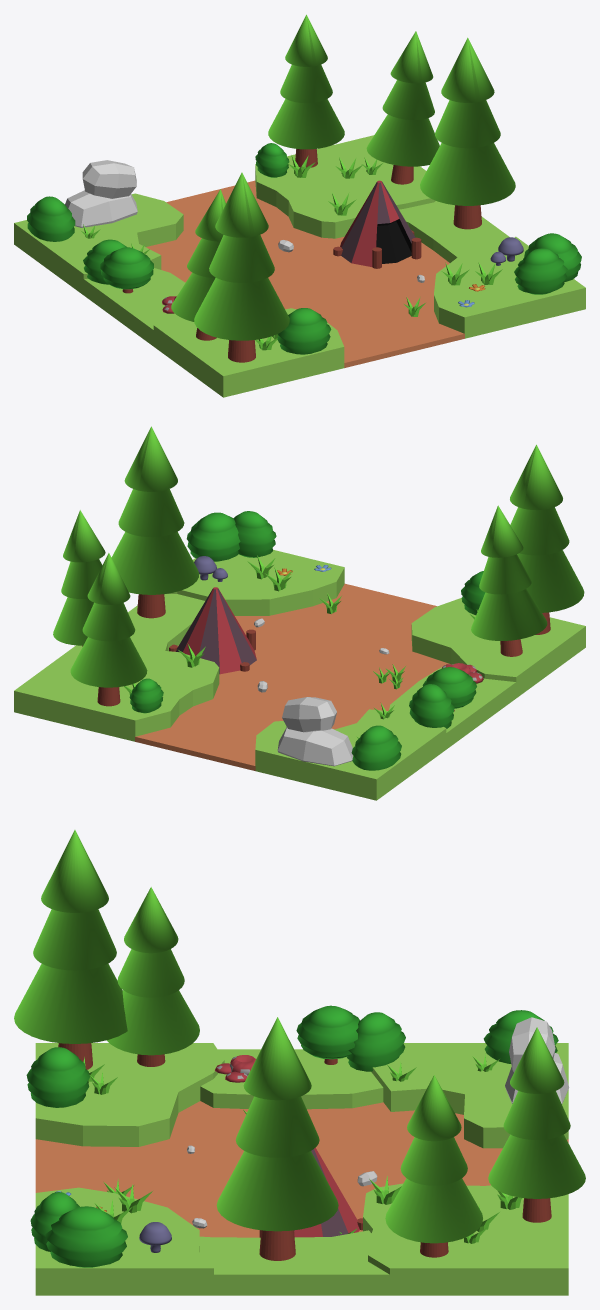
Rendered from jungle level set - 2 Way (3).fbx.
3 renders of one model, top to bottom at view 1: azimuth 30°, elevation 25°; view 2: azimuth 150°, elevation 25°; view 3: azimuth 270°, elevation 25°, orthographic. The views are drawn at different scales.
Visible parts, largest first — view 1: land_platform, tree_001, tree_006, tree, tree_002, camp, tree_005, bush_004, stone, bush_005, tree_004, stone_001 (+4 smaller); view 2: land_platform, tree_001, tree_006, tree, tree_005, camp, tree_002, stone, bush, bush_003, stone_001, bush_001 (+4 smaller); view 3: land_platform, tree_001, tree_006, tree, tree_002, tree_005, bush, bush_005, tree_004, bush_001, camp, bush_003 (+4 smaller).
Part boxes in pixels (<box>): land_platform: <box>14,135,585,397</box>; tree_001: <box>420,37,515,229</box>; tree_006: <box>194,172,289,362</box>; tree: <box>268,14,344,167</box>; tree_002: <box>366,31,439,184</box>; camp: <box>333,180,421,268</box>; tree_005: <box>171,189,225,340</box>; bush_004: <box>514,248,567,294</box>; stone: <box>65,190,137,227</box>; bush_005: <box>277,308,331,354</box>; tree_004: <box>100,247,153,293</box>; stone_001: <box>82,160,136,198</box>; land_platform: <box>14,549,585,800</box>; tree_001: <box>111,426,199,618</box>; tree_006: <box>510,444,584,634</box>; tree: <box>70,553,147,706</box>; tree_005: <box>471,505,547,656</box>; camp: <box>169,587,256,674</box>; tree_002: <box>53,510,105,646</box>; stone: <box>277,727,352,766</box>; bush: <box>186,512,240,561</box>; bush_003: <box>351,725,401,770</box>; stone_001: <box>282,697,336,732</box>; bush_001: <box>409,684,454,728</box>; land_platform: <box>35,1043,568,1295</box>; tree_001: <box>216,1017,338,1260</box>; tree_006: <box>14,830,127,1069</box>; tree: <box>488,1027,585,1222</box>; tree_002: <box>385,1075,482,1257</box>; tree_005: <box>107,887,199,1066</box>; bush: <box>45,1206,127,1267</box>; bush_005: <box>26,1047,89,1107</box>; tree_004: <box>296,1005,359,1064</box>; bush_001: <box>347,1012,405,1071</box>; camp: <box>259,1148,362,1237</box>; bush_003: <box>483,1010,558,1063</box>.
Bounding box in the file's own units: 16.26 × 8.35 × 16.29.
